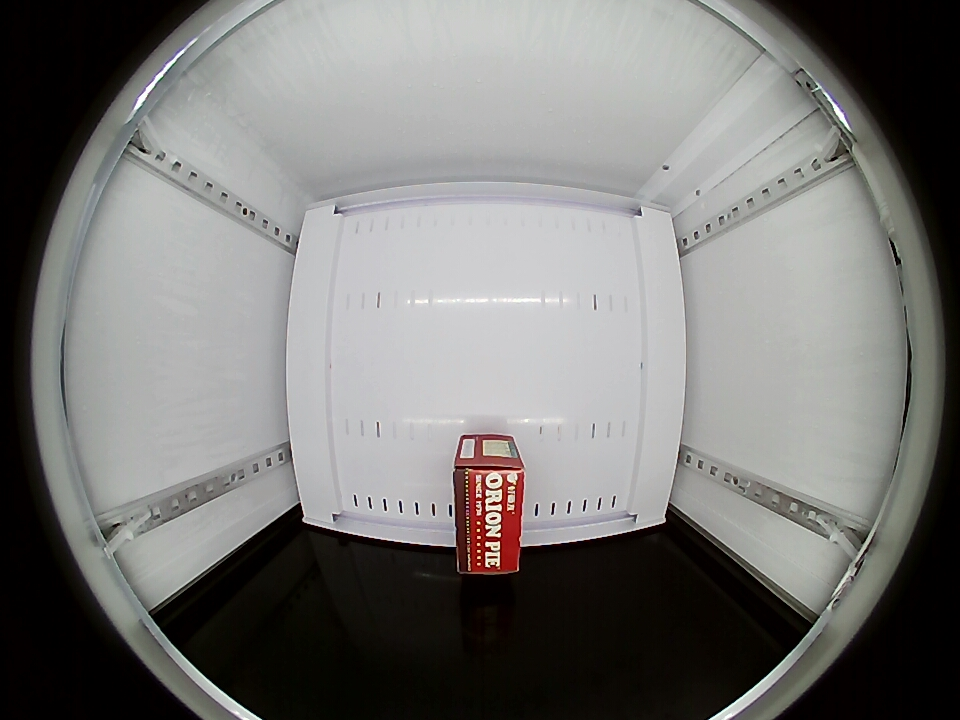haoliyou: (453, 440, 525, 576)
